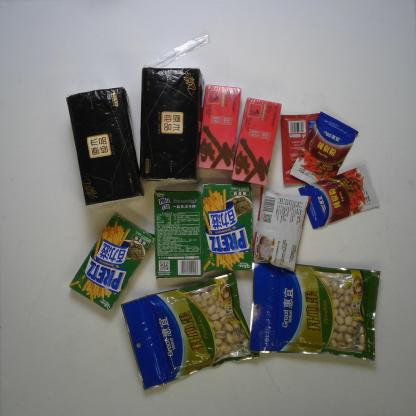Dessert: (68, 211, 157, 312), (201, 182, 254, 272), (153, 189, 206, 279)
Dried Fruit: (120, 272, 268, 394), (244, 255, 384, 364)
Instant Drink: (230, 96, 282, 186), (197, 83, 243, 171)
Seasoner: (298, 162, 382, 230), (251, 185, 313, 273), (289, 111, 360, 187), (280, 112, 326, 186)
Tissue: (66, 86, 146, 208), (139, 66, 204, 186)
